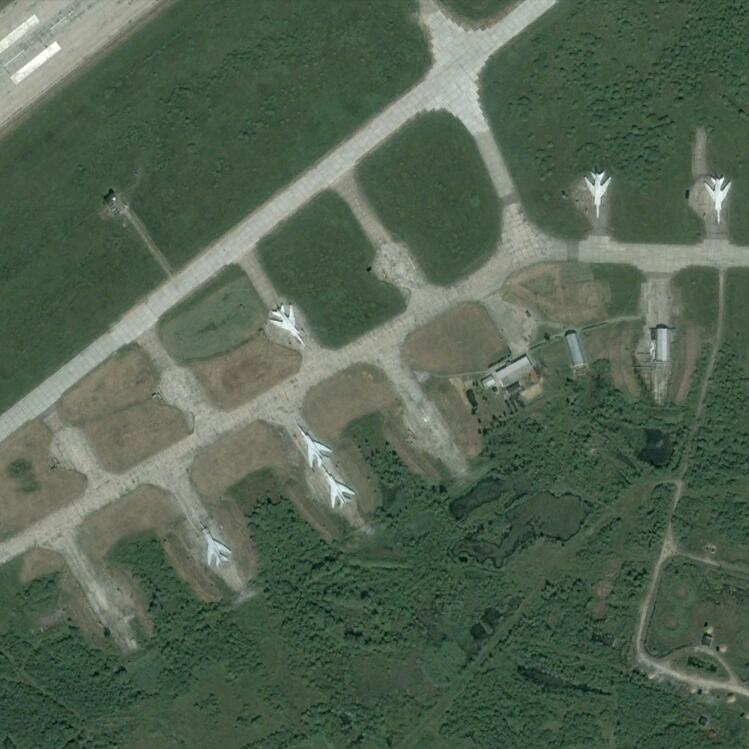A12: (268, 302, 306, 347), (296, 424, 333, 469), (198, 521, 233, 568), (319, 466, 356, 509), (704, 174, 733, 226), (584, 170, 612, 219)
